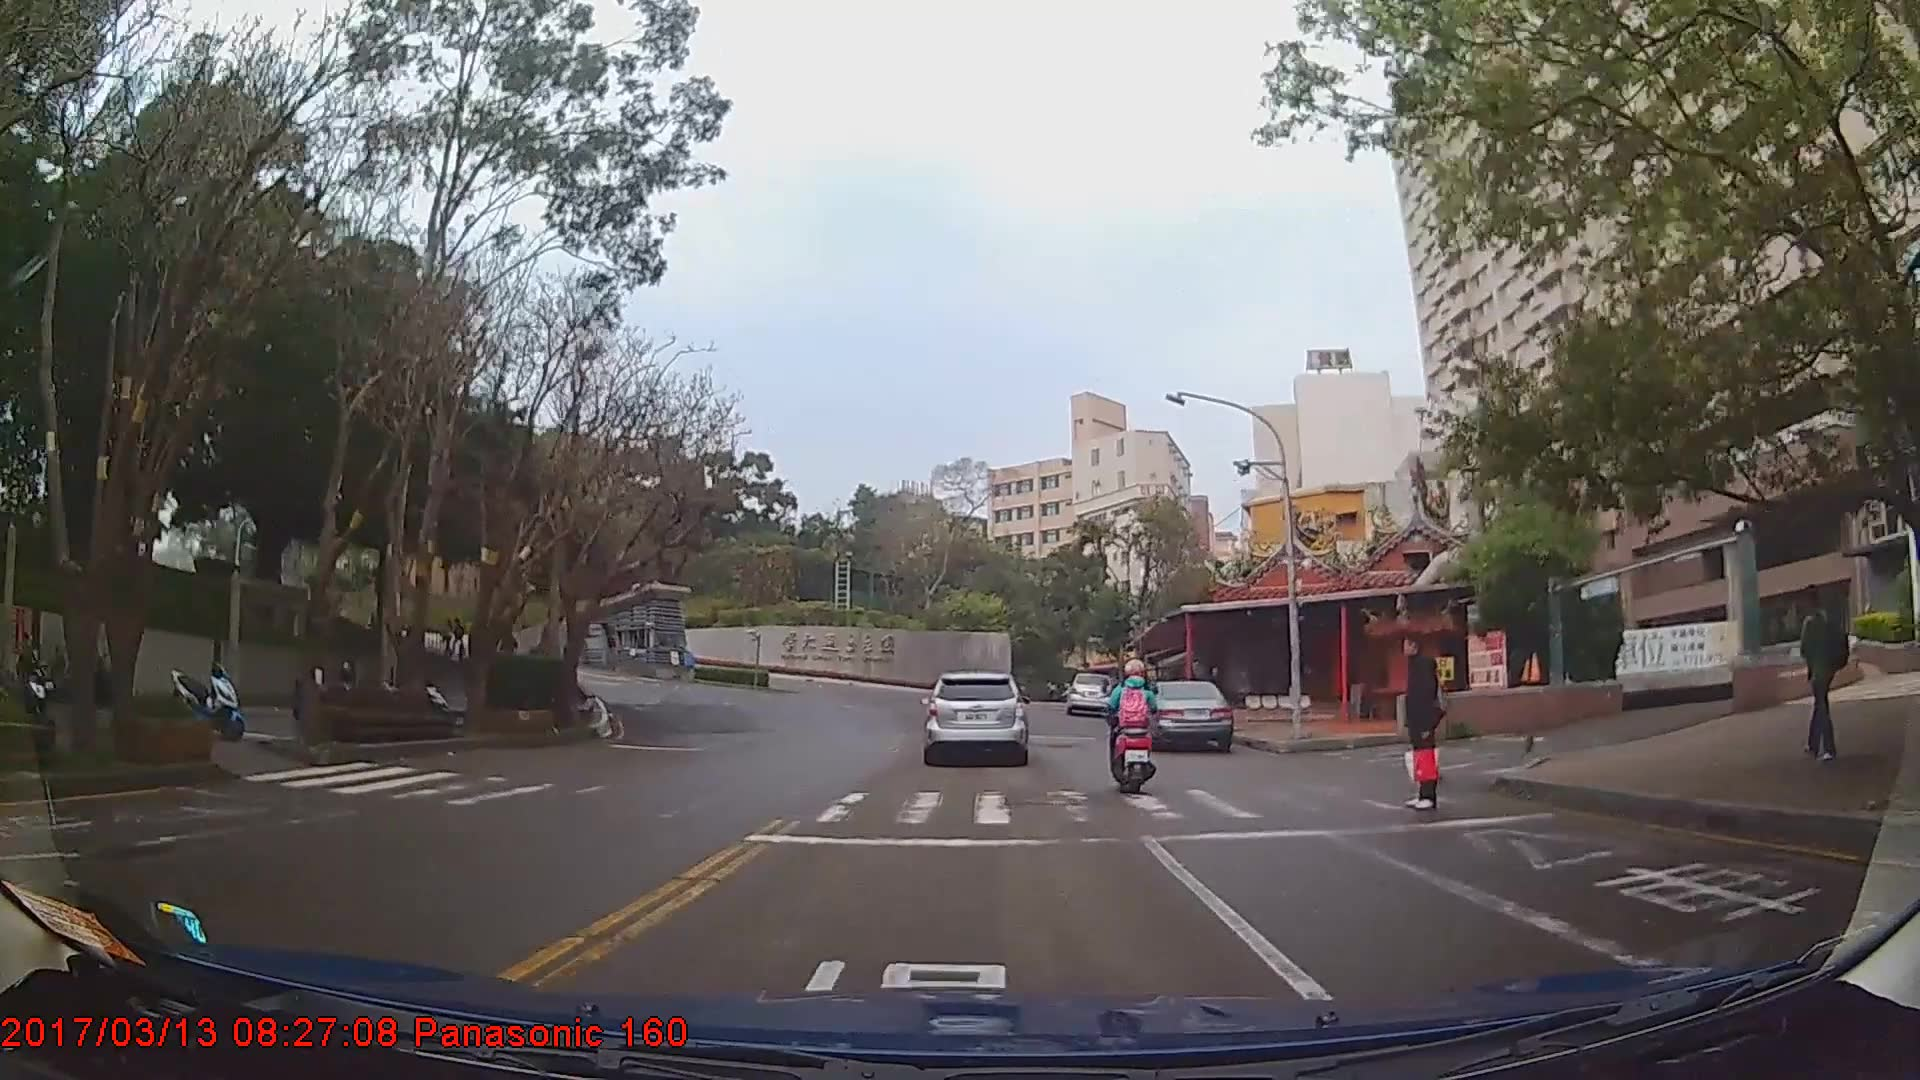pedestrian: (1795, 586, 1855, 766), (1401, 629, 1451, 816)
rider: (1105, 667, 1166, 806)
vehicle: (924, 671, 1027, 768), (1137, 680, 1234, 753), (1067, 674, 1116, 718)
